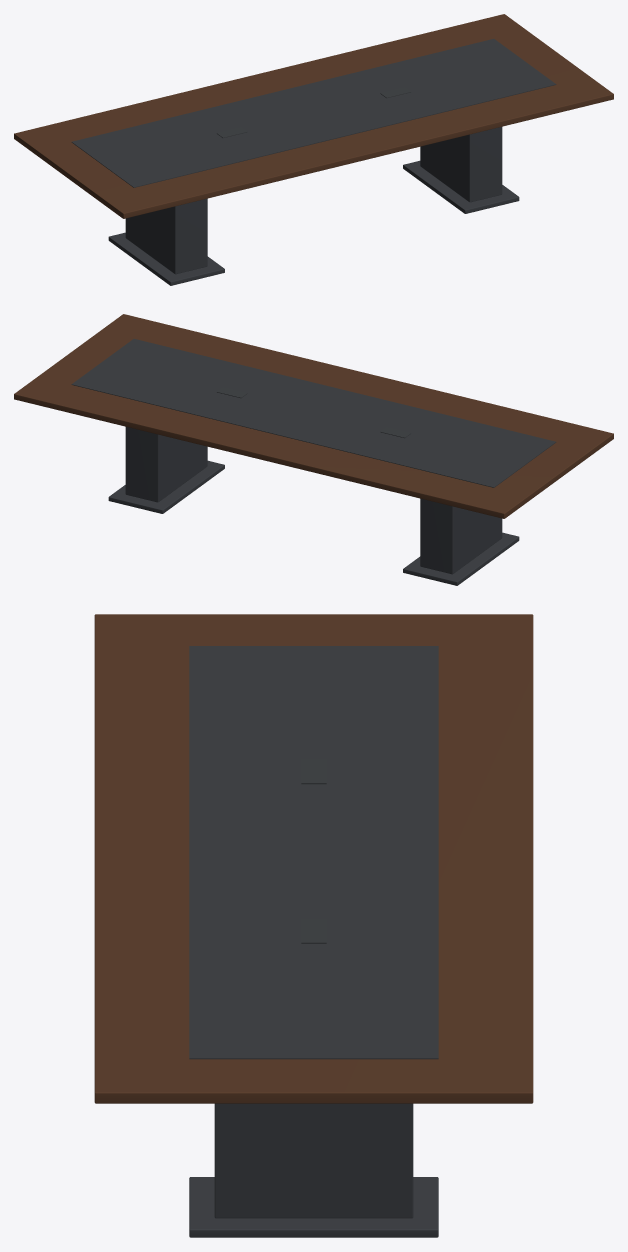
Rendered from prop_table_conference_l360.glb.
3 views of the same model, one above another, from view 1: azimuth 30°, elevation 25°; view 2: azimuth 150°, elevation 25°; view 3: azimuth 270°, elevation 25° (orthographic). The views are drawn at different scales.
Visible parts, largest first — view 1: Table; view 2: Table; view 3: Table.
Part boxes in pixels (x1,y1,x2,y2): Table: (14,14,613,285); Table: (14,314,613,585); Table: (94,614,533,1237).
Size of what is drawn, in the model's own units: 3.59 by 0.758 by 1.39.
